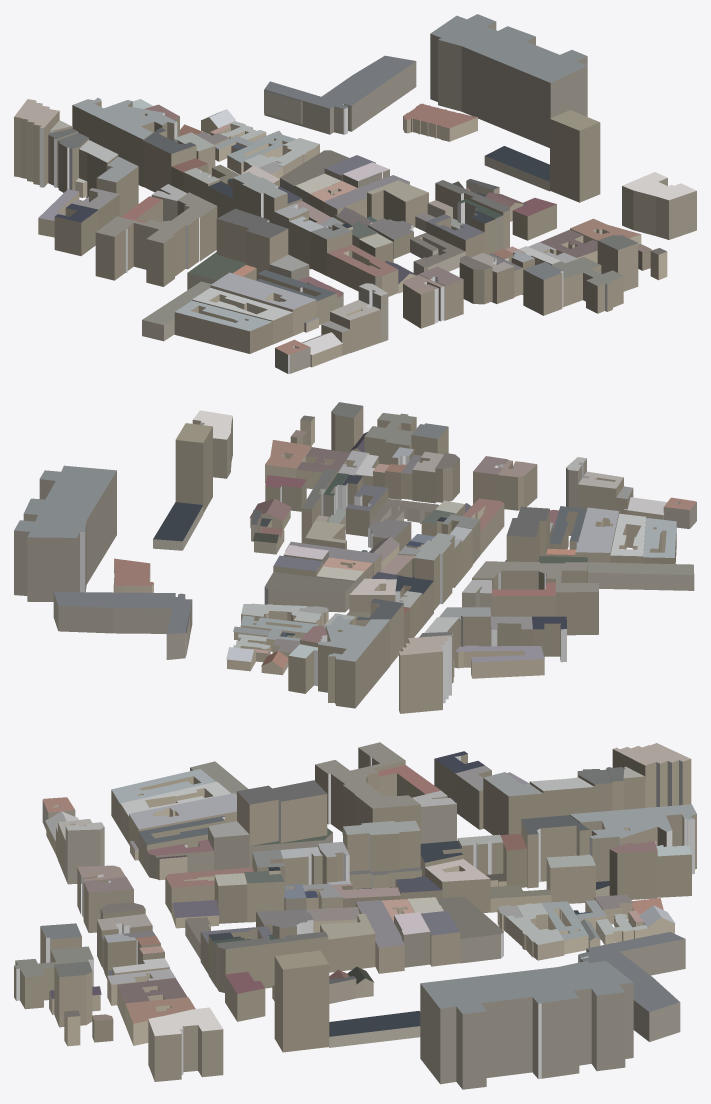
3 renders of one model, top to bottom at view 1: azimuth 30°, elevation 25°; view 2: azimuth 150°, elevation 25°; view 3: azimuth 270°, elevation 25°, orthographic. The views are drawn at different scales.
Parts seen in each view (by area): view 1: tuile; view 2: tuile; view 3: tuile.
Boxes of the visible parts, x1,y1,x2,y2 form: tuile: (14, 14, 696, 373); tuile: (14, 402, 696, 713); tuile: (14, 742, 696, 1089).
Size of the model in its own units: 292 by 40.19 by 272.
